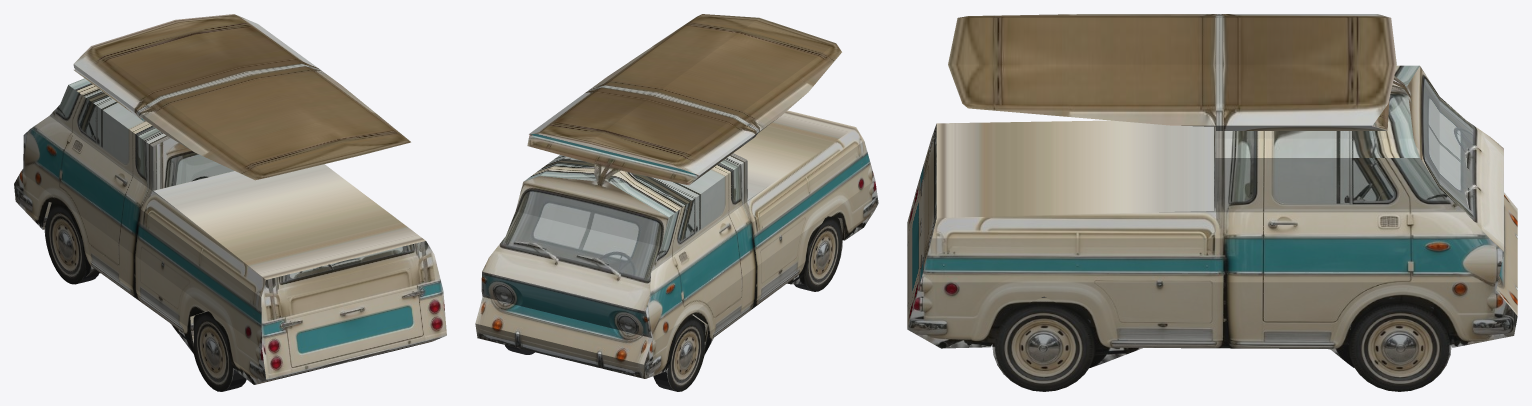
The model's file is utility_cart.glb.
3 renders of one model, left to right at view 1: azimuth 30°, elevation 25°; view 2: azimuth 150°, elevation 25°; view 3: azimuth 270°, elevation 25°, orthographic. The views are drawn at different scales.
Visible parts, largest first — view 1: utility_cart, wheel_BL, wheel_FL; view 2: utility_cart, wheel_FL, wheel_BL; view 3: utility_cart, wheel_FR, wheel_BR.
Part boxes in pixels (left/top/right/bottom): utility_cart: left=14, top=14, right=446, bottom=384; wheel_BL: left=192, top=311, right=246, bottom=391; wheel_FL: left=44, top=203, right=98, bottom=284; utility_cart: left=475, top=14, right=878, bottom=378; wheel_FL: left=653, top=315, right=705, bottom=391; wheel_BL: left=794, top=216, right=842, bottom=291; utility_cart: left=907, top=14, right=1517, bottom=368; wheel_FR: left=1347, top=297, right=1451, bottom=391; wheel_BR: left=992, top=296, right=1096, bottom=391.
Size of the model in its own units: 1.26 by 1.55 by 3.
3 materials, 1 textured.
